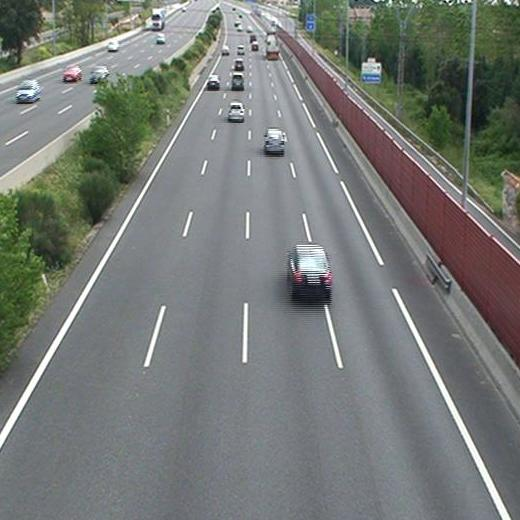car: (289, 246, 332, 292), (265, 129, 284, 153), (227, 103, 243, 119), (232, 72, 243, 89), (207, 75, 219, 88), (234, 59, 245, 70), (220, 46, 229, 56), (236, 46, 245, 54), (250, 42, 258, 50)
truck: (266, 34, 279, 59)
